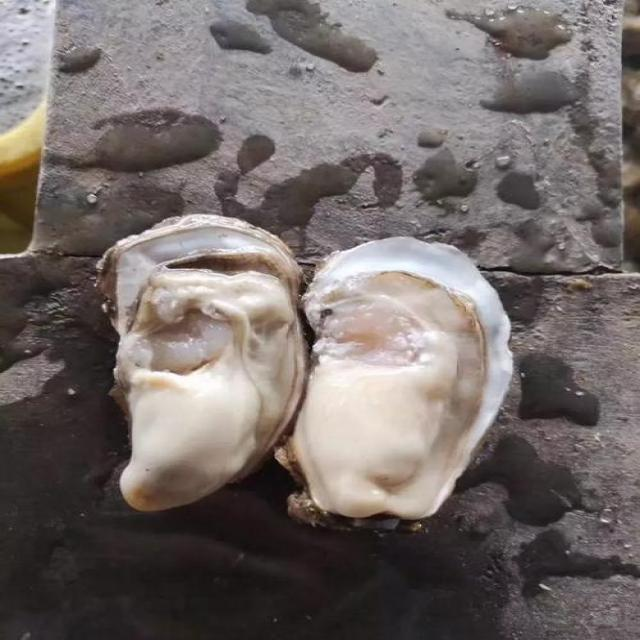Oyster-Open: (281, 223, 519, 519), (90, 212, 310, 516)
